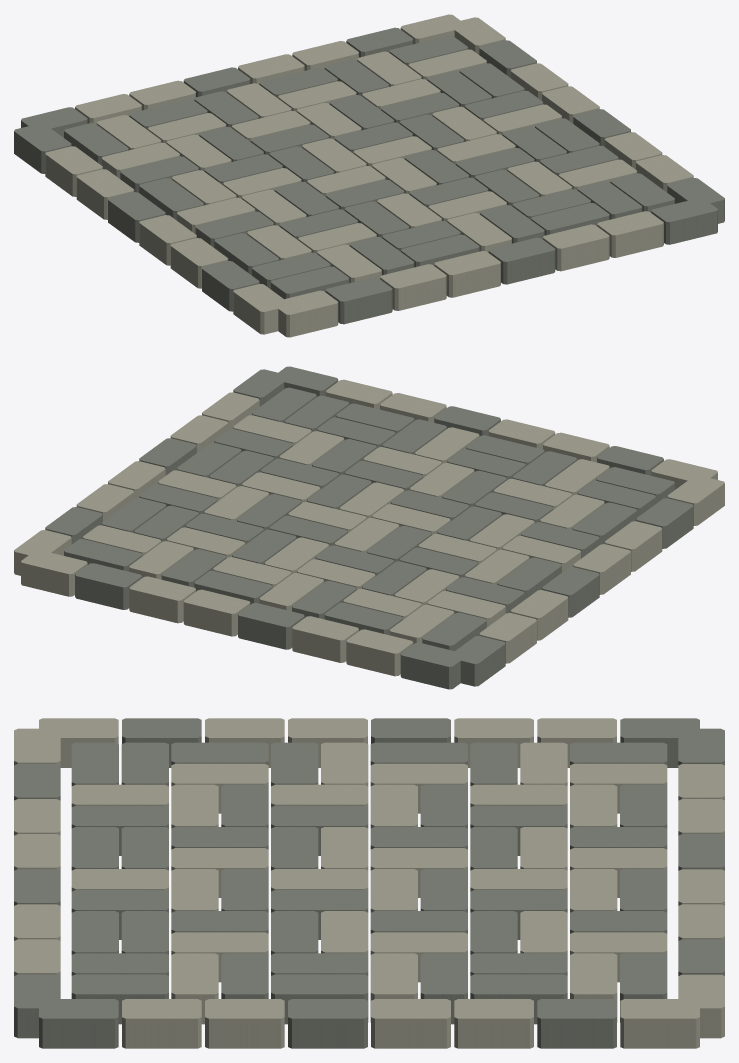
The model's file is PaverPathSection.gltf.
3 renders of one model, top to bottom at view 1: azimuth 30°, elevation 25°; view 2: azimuth 150°, elevation 25°; view 3: azimuth 270°, elevation 25°, orthographic. The views are drawn at different scales.
Parts seen in each view (by area): view 1: PaverPathSection__Body; view 2: PaverPathSection__Body; view 3: PaverPathSection__Body.
Part boxes in pixels (x1,y1,x2,y2): PaverPathSection__Body: (14, 14, 724, 337); PaverPathSection__Body: (14, 366, 724, 689); PaverPathSection__Body: (14, 718, 724, 1048).
Size of the model in its own units: 1.2 by 0.056 by 1.2.
Materials: 1 (1 with a texture image).
